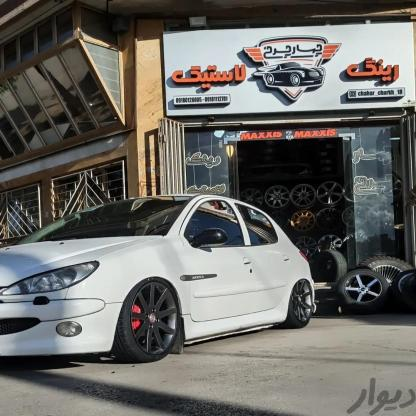Car: (0, 186, 318, 364)
